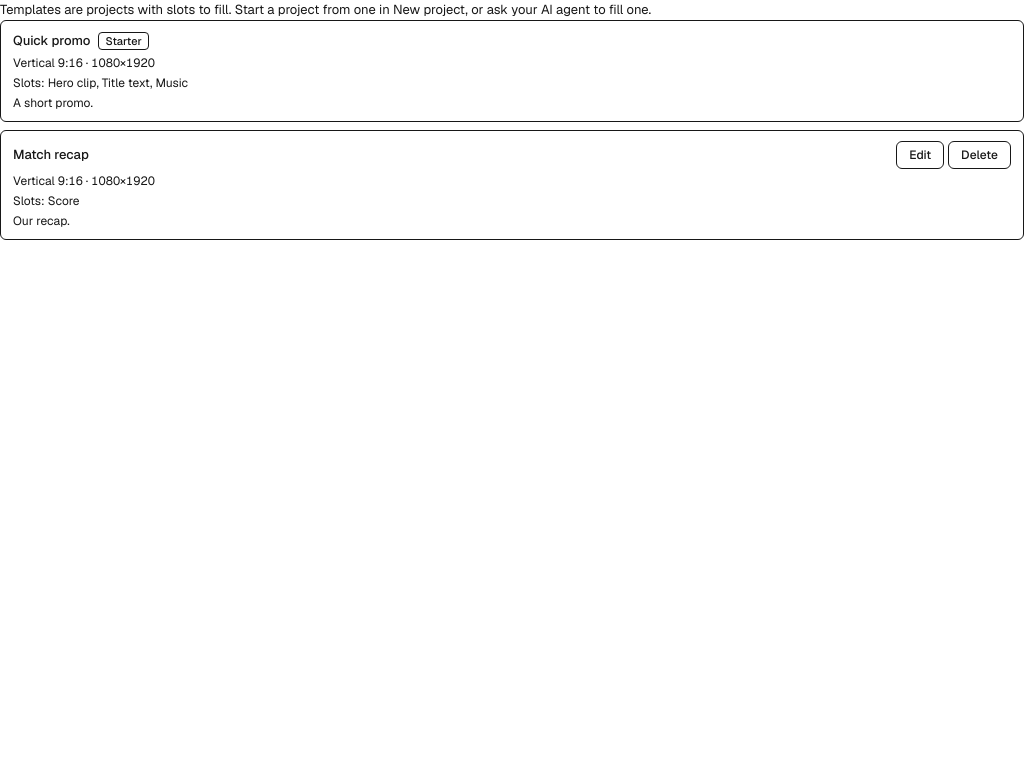
Test: Delete asks first, then deletes and refreshes
Later steps or results of the test are not shown.
Click the button "Delete": point(980, 154) [948, 140, 1011, 168]
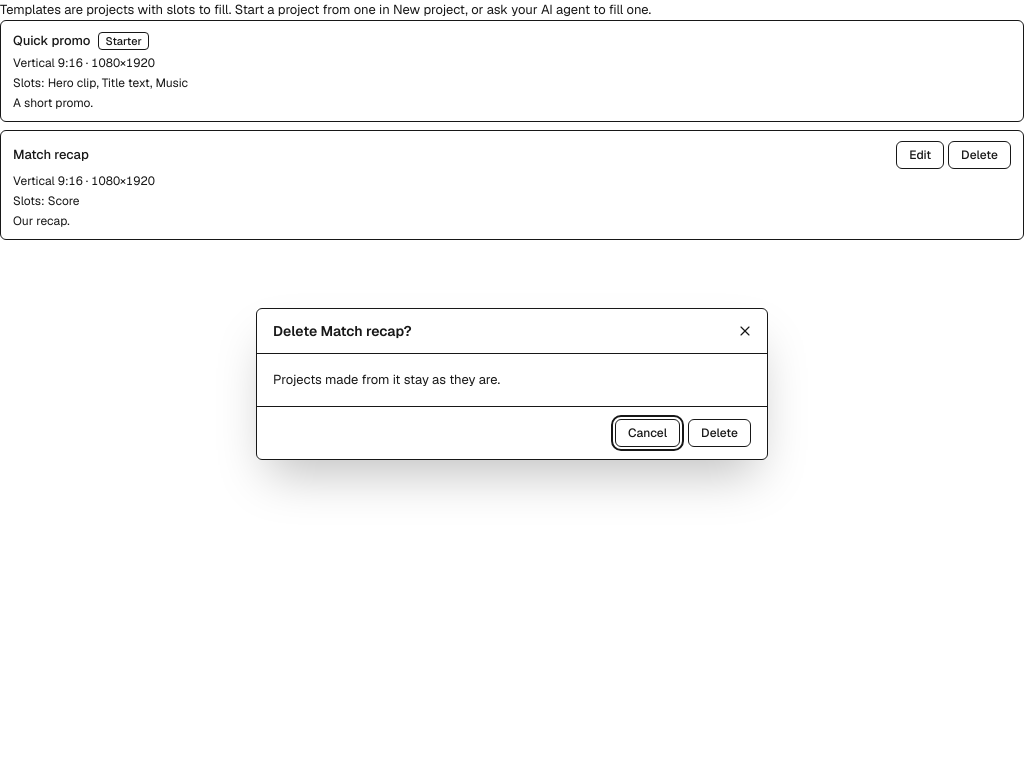
Check: the text "Projects made from it stay as they are." is shown, box [273, 371, 500, 388]
